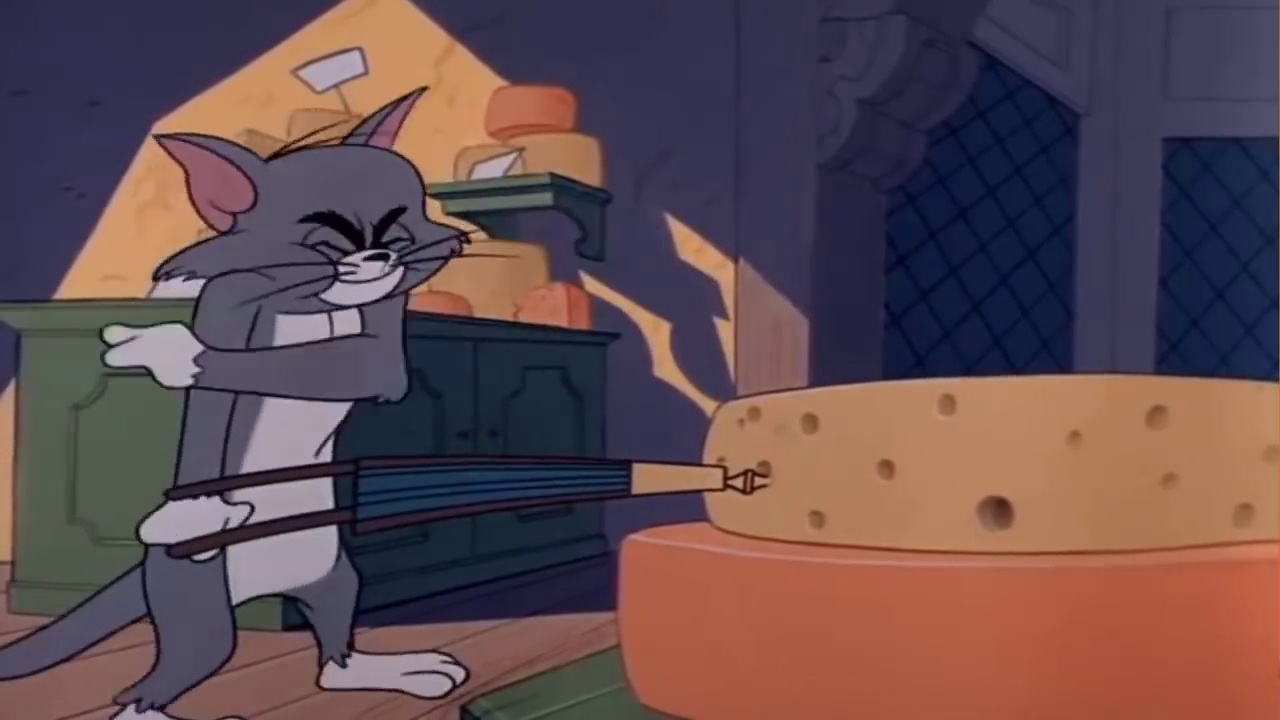face: (291, 197, 423, 306)
